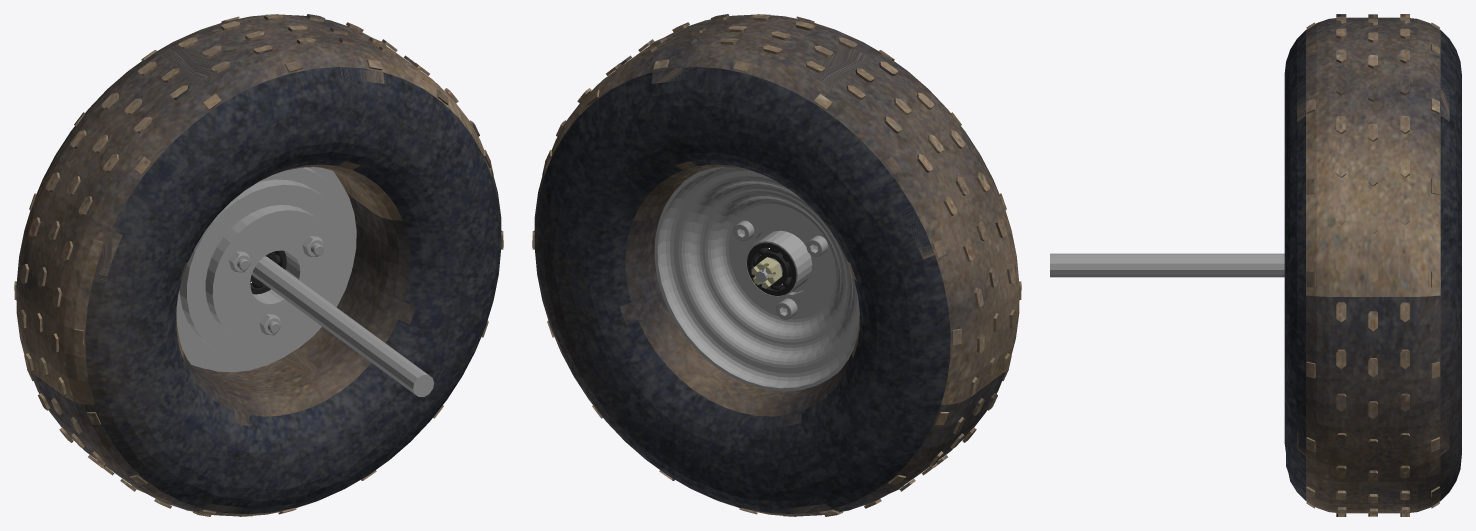
Rendered from RDD_Link.fbx.
The picture shows the model from 3 angles, left to right: view 1: azimuth 30°, elevation 25°; view 2: azimuth 150°, elevation 25°; view 3: azimuth 270°, elevation 25°; orthographic projection.
Visible parts, largest first — view 1: Neumatico, Llanta, Eje; view 2: Neumatico, Llanta, Rodamiento, Tuerca; view 3: Neumatico, Eje.
Boxes of the visible parts, x1=… form: Neumatico: x1=14, y1=14, x2=503, y2=516; Llanta: x1=176, y1=167, x2=356, y2=372; Eje: x1=252, y1=256, x2=434, y2=396; Neumatico: x1=532, y1=14, x2=1021, y2=516; Llanta: x1=654, y1=167, x2=859, y2=391; Rodamiento: x1=747, y1=242, x2=796, y2=295; Tuerca: x1=751, y1=257, x2=782, y2=288; Neumatico: x1=1284, y1=14, x2=1461, y2=516; Eje: x1=1050, y1=253, x2=1284, y2=277.
Size of the model in its own units: 35.42 by 35.42 by 29.03.
6 materials, 1 textured.
